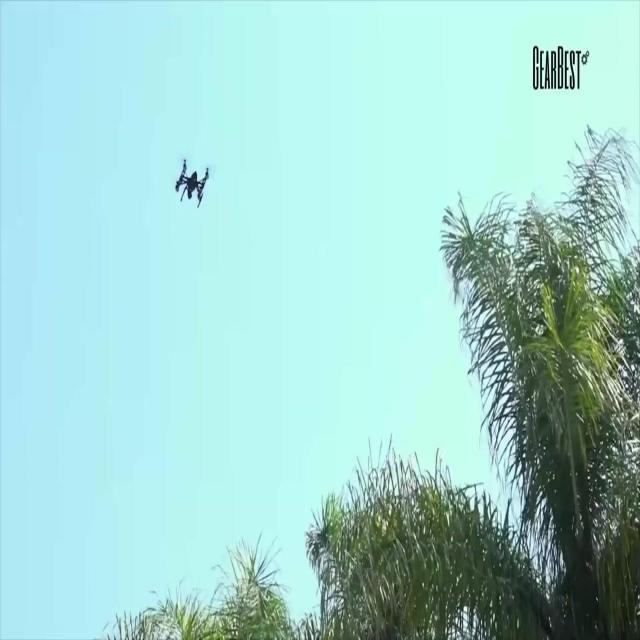UAV: (175, 159, 209, 208)
